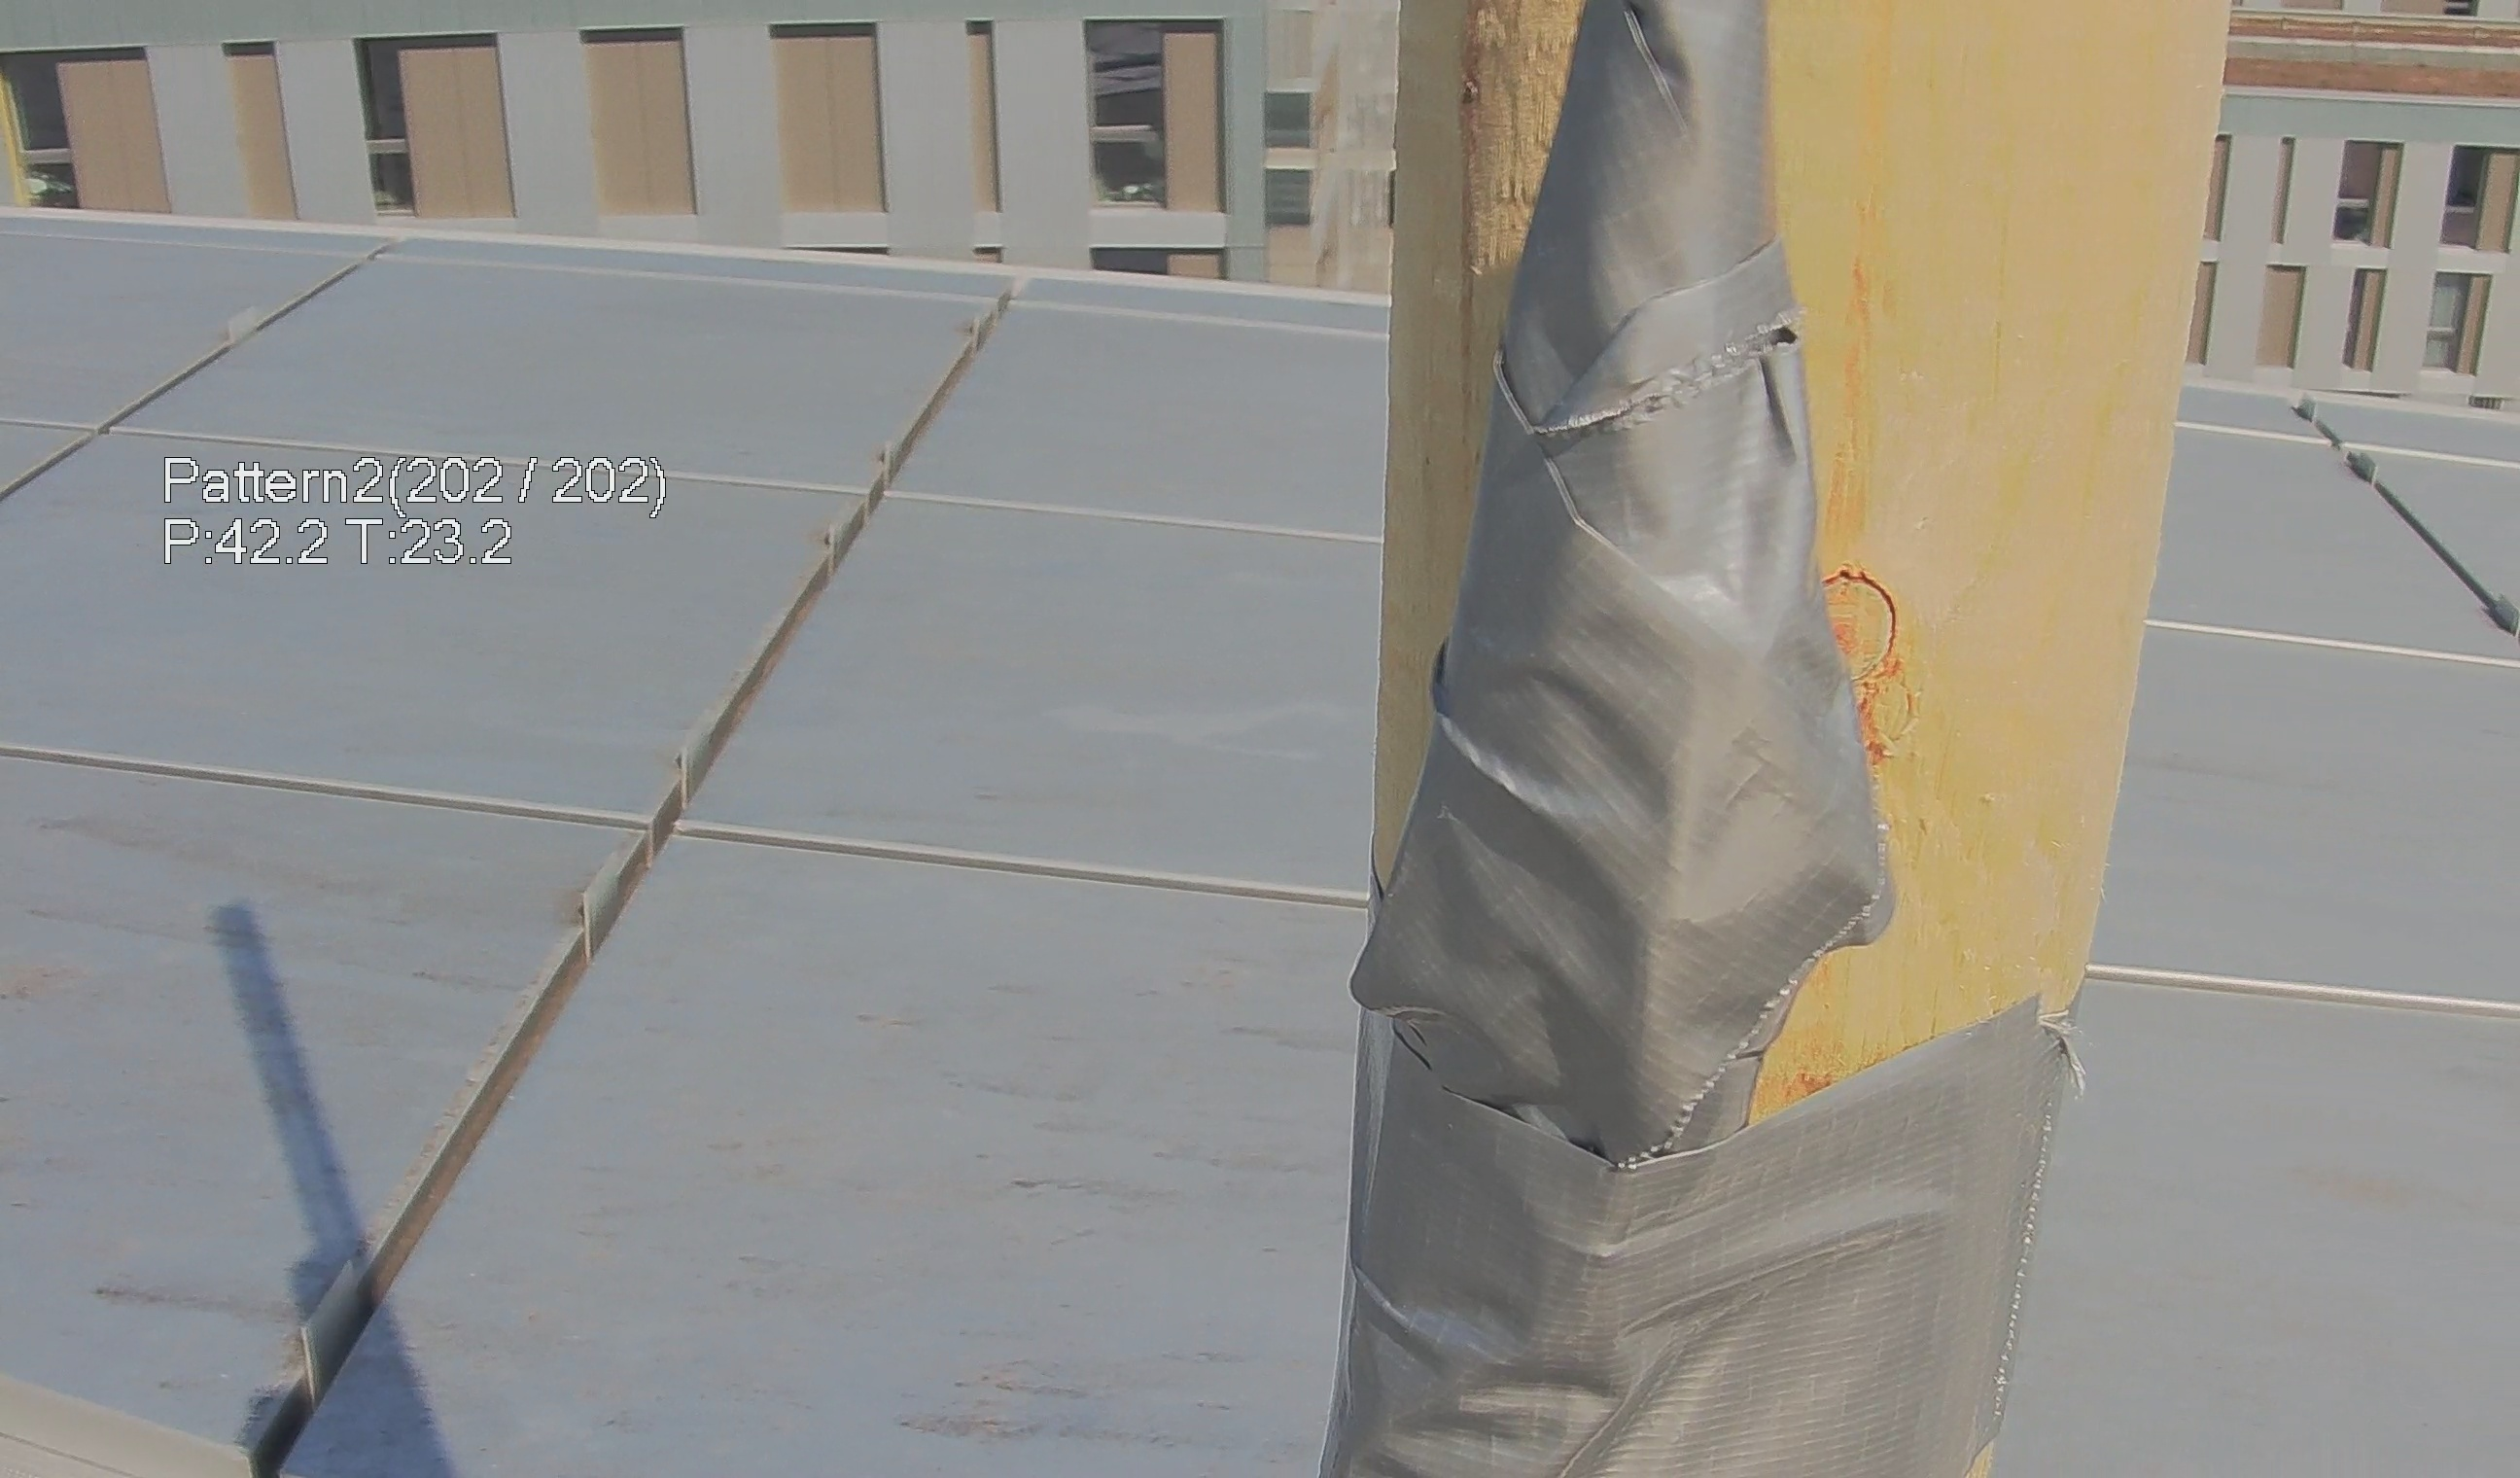Other: (1373, 5, 1913, 1267)
